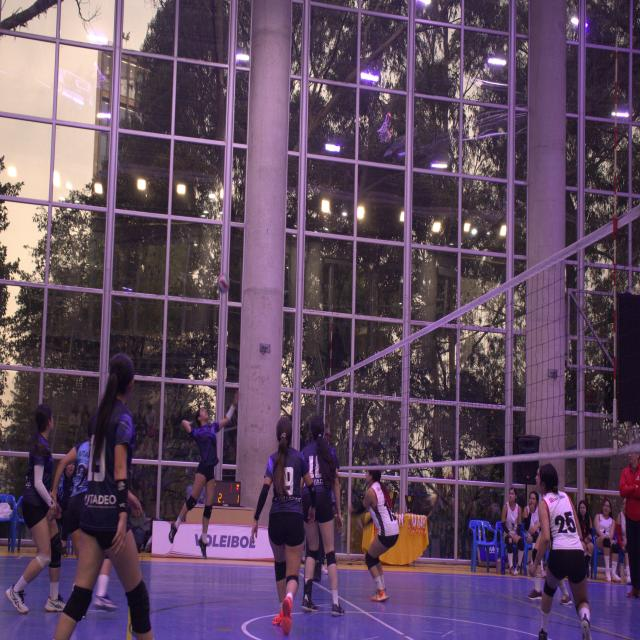volleyball: (217, 272, 229, 291)
